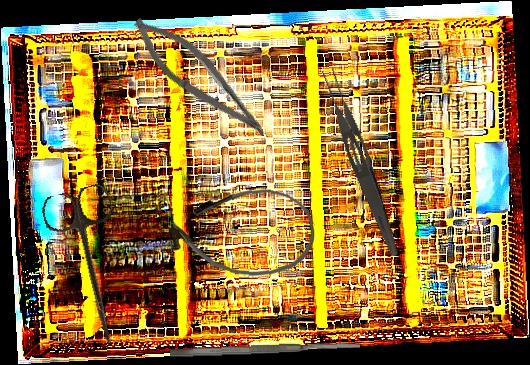Cannula: (164, 184, 318, 279)
Dressing Forceps: (316, 65, 408, 259)
Iris Scissors: (38, 181, 147, 352)
Micro Scissor: (121, 8, 281, 146)
Spatula Surgical: (169, 340, 361, 359)
